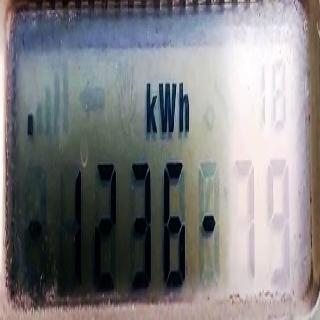-: (28, 214, 43, 242), (202, 209, 215, 237), (26, 110, 34, 141)
1: (72, 161, 86, 284)
2: (93, 155, 118, 297)
3: (130, 156, 154, 297)
6: (161, 155, 189, 296)
7: (232, 148, 258, 286)
9: (264, 150, 294, 294)
